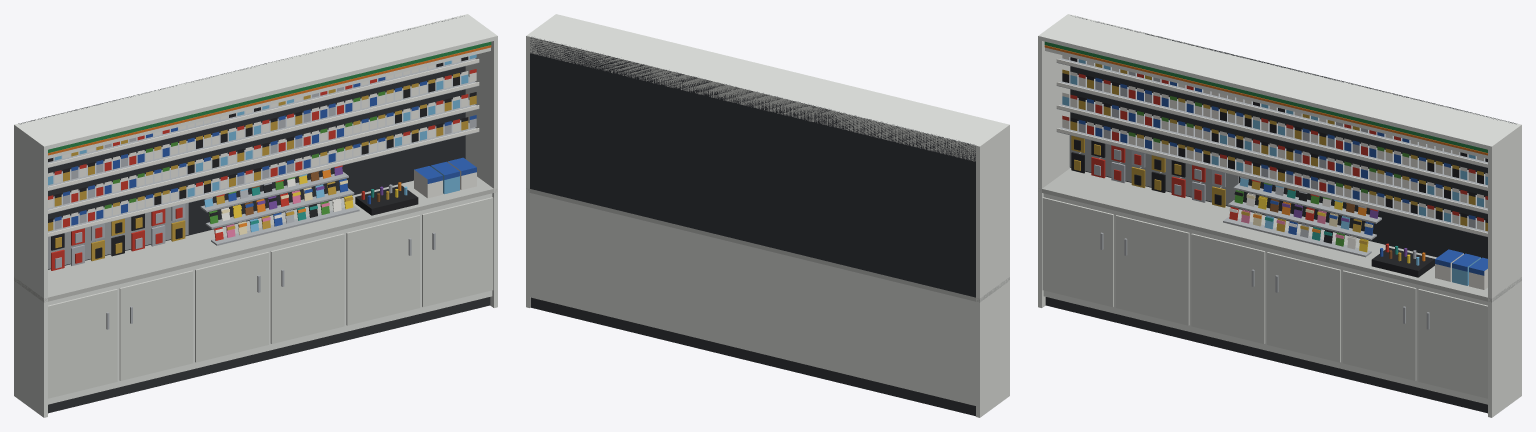
The model's file is conbini_back_shelf.glb.
The picture shows the model from 3 angles, left to right: view 1: azimuth 30°, elevation 25°; view 2: azimuth 150°, elevation 25°; view 3: azimuth 330°, elevation 25°; orthographic projection.
Visible parts, largest first — view 1: back_shelf; view 2: back_shelf; view 3: back_shelf.
Part boxes in pixels (bbox=[...]): back_shelf: bbox=[14, 14, 497, 417]; back_shelf: bbox=[526, 14, 1009, 417]; back_shelf: bbox=[1038, 14, 1521, 417].
Size of the model in its own units: 3.5 by 2 by 0.406.
